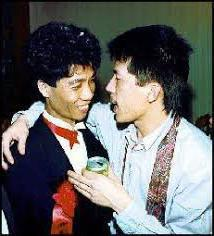Drunk: (104, 62, 150, 126), (61, 61, 97, 121)
